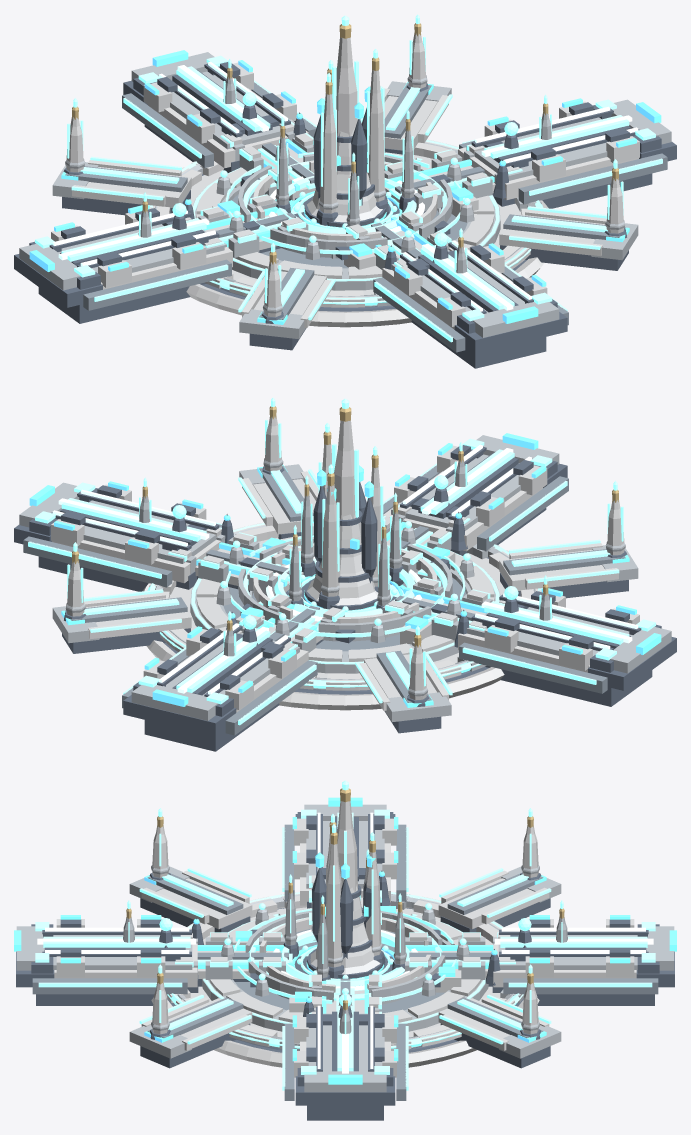
File: base_earth.glb
3 renders of one model, top to bottom at view 1: azimuth 30°, elevation 25°; view 2: azimuth 150°, elevation 25°; view 3: azimuth 270°, elevation 25°, orthographic. The views are drawn at different scales.
Parts seen in each view (by area): view 1: LOD_gunmetal_00, LOD_cyan_04, LOD_silver_02, LOD_white_06, LOD_ivory_01, LOD_steel_03, LOD_blue_05, LOD_light_blue_08, LOD_gold_07; view 2: LOD_gunmetal_00, LOD_silver_02, LOD_cyan_04, LOD_white_06, LOD_ivory_01, LOD_steel_03, LOD_blue_05, LOD_light_blue_08, LOD_gold_07; view 3: LOD_gunmetal_00, LOD_silver_02, LOD_cyan_04, LOD_white_06, LOD_ivory_01, LOD_steel_03, LOD_blue_05, LOD_light_blue_08, LOD_gold_07.
Boxes of the visible parts, x1,y1,x2,y2 form: LOD_gunmetal_00: [14, 62, 676, 368]; LOD_cyan_04: [35, 14, 662, 342]; LOD_silver_02: [19, 52, 671, 339]; LOD_white_06: [66, 33, 638, 329]; LOD_ivory_01: [51, 62, 639, 326]; LOD_steel_03: [65, 82, 667, 352]; LOD_blue_05: [29, 50, 661, 324]; LOD_light_blue_08: [52, 61, 638, 311]; LOD_gold_07: [72, 23, 618, 264]; LOD_gunmetal_00: [14, 445, 676, 751]; LOD_silver_02: [19, 435, 671, 722]; LOD_cyan_04: [28, 397, 655, 725]; LOD_white_06: [52, 416, 624, 712]; LOD_ivory_01: [51, 445, 639, 709]; LOD_steel_03: [23, 465, 625, 735]; LOD_blue_05: [29, 433, 661, 707]; LOD_light_blue_08: [52, 444, 638, 694]; LOD_gold_07: [72, 406, 618, 647]; LOD_gunmetal_00: [16, 812, 674, 1120]; LOD_silver_02: [16, 804, 674, 1092]; LOD_cyan_04: [35, 780, 655, 1090]; LOD_white_06: [54, 801, 636, 1067]; LOD_ivory_01: [56, 818, 634, 1077]; LOD_steel_03: [32, 824, 658, 1100]; LOD_blue_05: [14, 797, 676, 1084]; LOD_light_blue_08: [37, 812, 653, 1073]; LOD_gold_07: [126, 788, 564, 1010].
Size of the model in its own units: 18.59 by 6.81 by 18.59.
